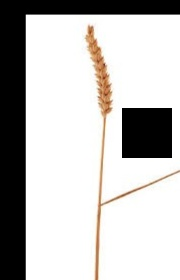wheat: (82, 22, 114, 127)
